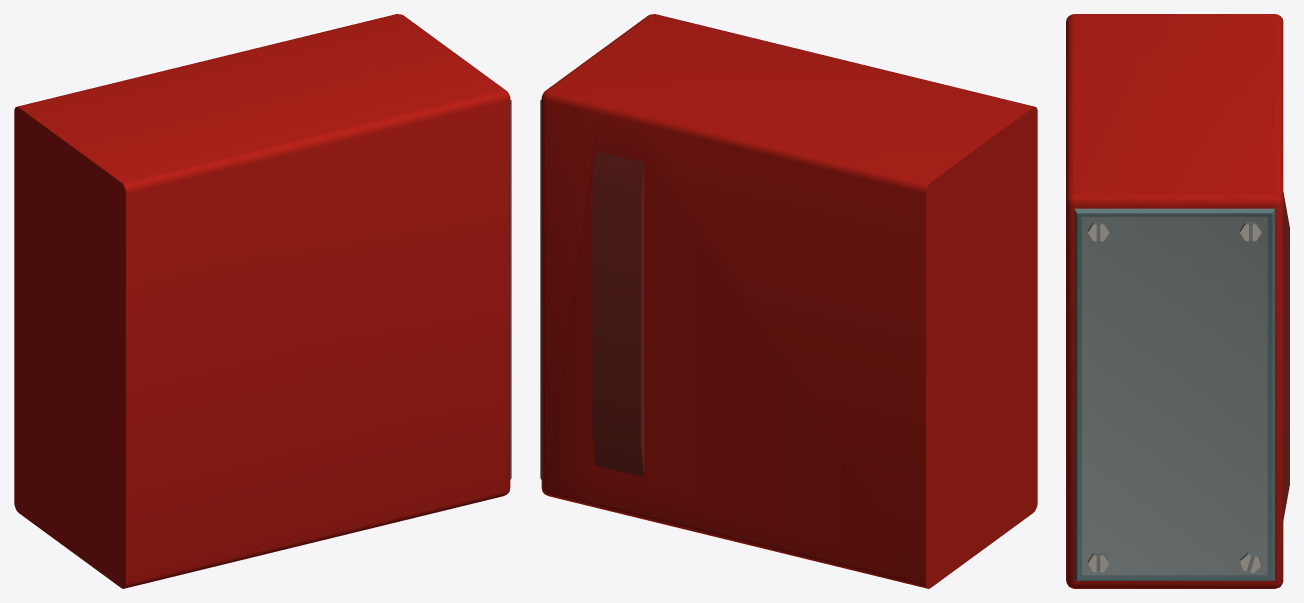
Rendered from Wireway.fbx.
The picture shows the model from 3 angles, left to right: view 1: azimuth 30°, elevation 25°; view 2: azimuth 150°, elevation 25°; view 3: azimuth 270°, elevation 25°; orthographic projection. The views are drawn at different scales.
Visible parts, largest first — view 1: Wireway_BuildState0; view 2: Wireway_BuildState0; view 3: Wireway_BuildState0.
Part boxes in pixels (box(x1,y1,x2,y2)): Wireway_BuildState0: box(14, 14, 511, 588); Wireway_BuildState0: box(540, 14, 1037, 588); Wireway_BuildState0: box(1066, 14, 1289, 588).
Size of the model in its own units: 0.515 by 1 by 1.02.
